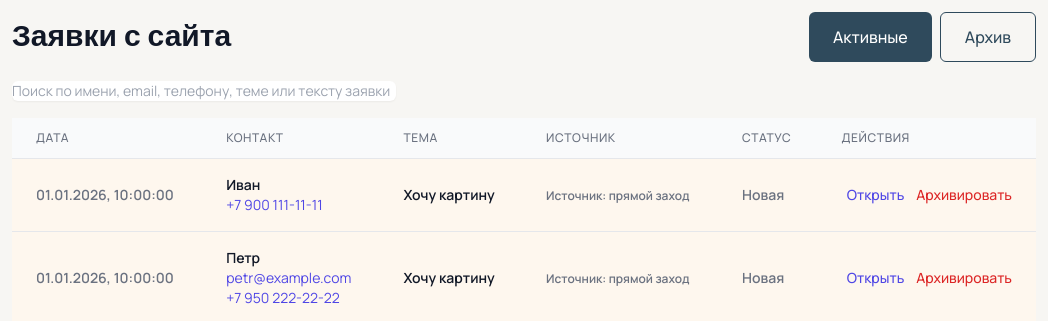
Test: MessagesList phone (@US3-BE4) › Degradation: phone is searchable in the messages list
Note: Search for a specific phone number
In the field named "Поиск по заявкам": (204, 91) [12,81,396,101], type "111-11"
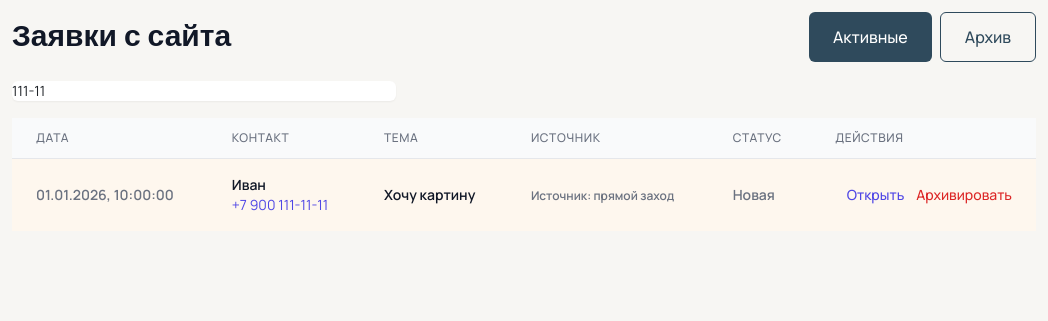
Check: the text "Иван" is shown, box [232,175,266,194]
Check: the text "Петр" is gone
